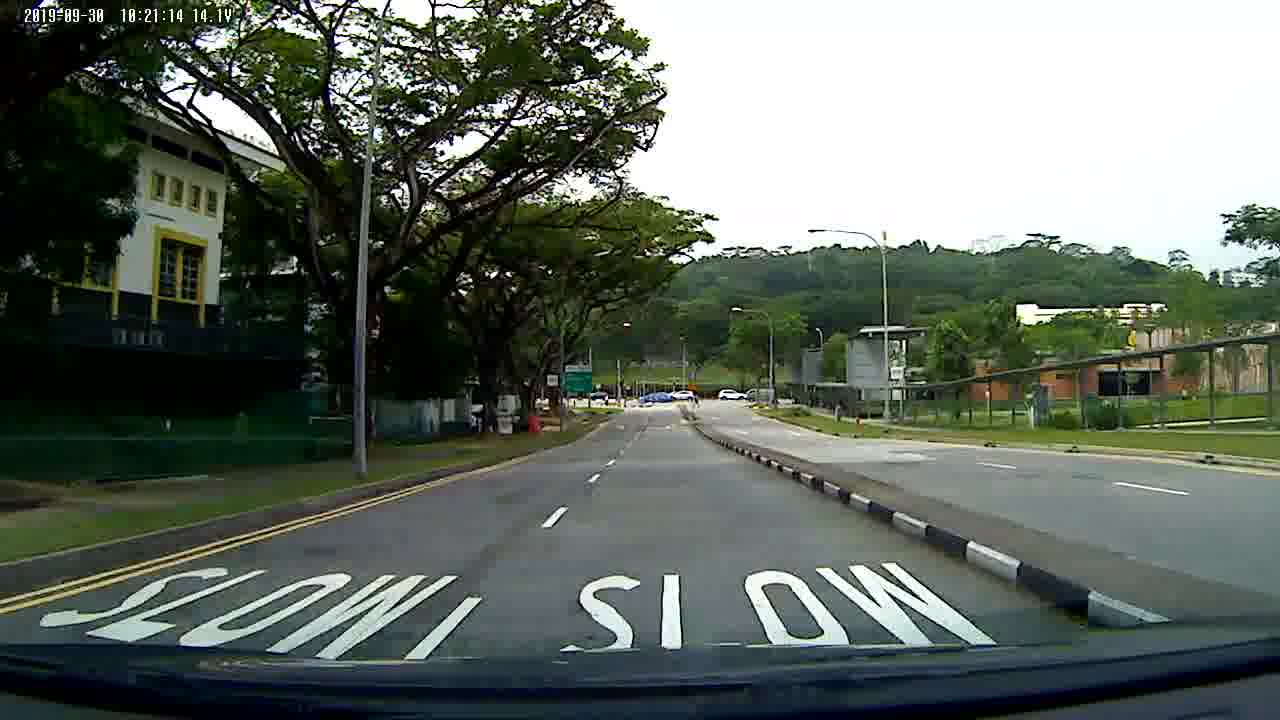car: (717, 386, 746, 401), (668, 390, 694, 403)
